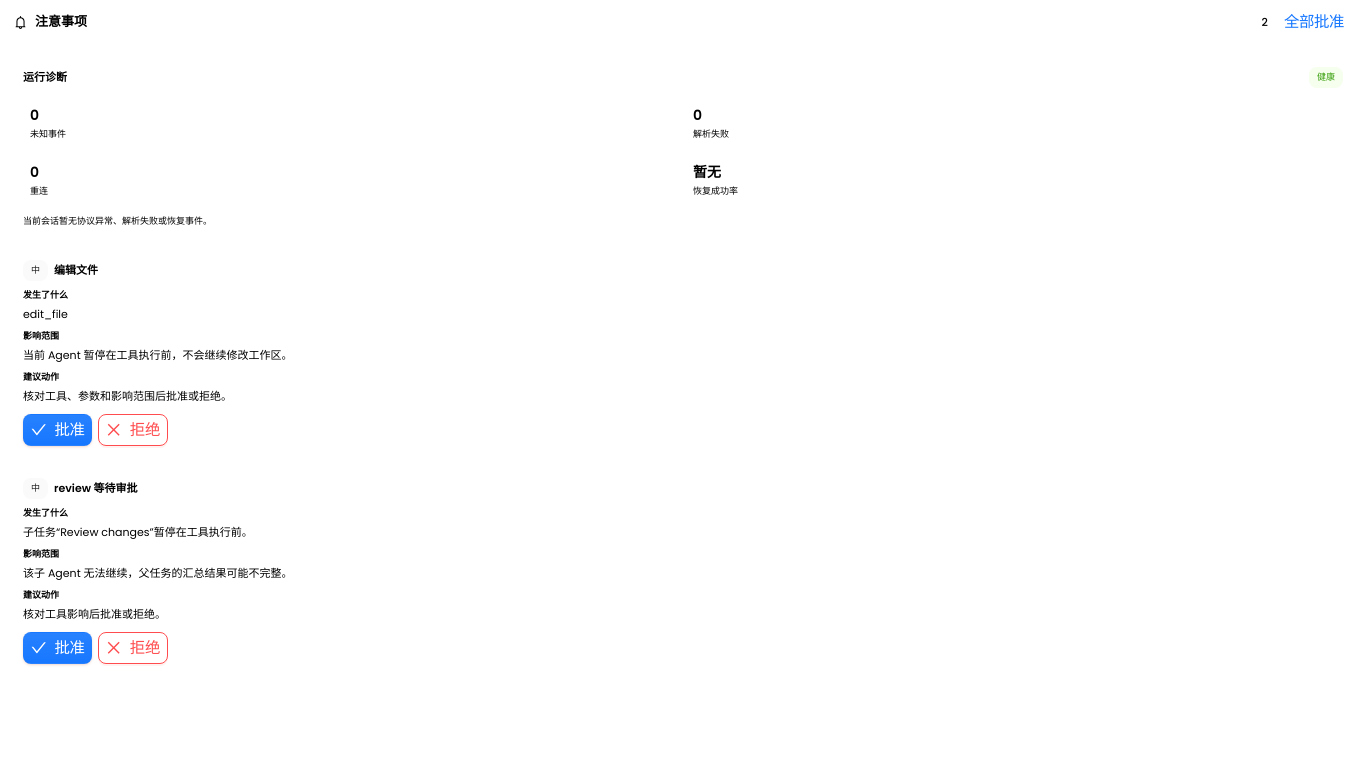
Test case: Agent product polish › approves multiple independent attention permissions in one confirmed action
The image size is (1366, 768).
Click the button "全部批准": click(1314, 22) [1276,6,1352,38]
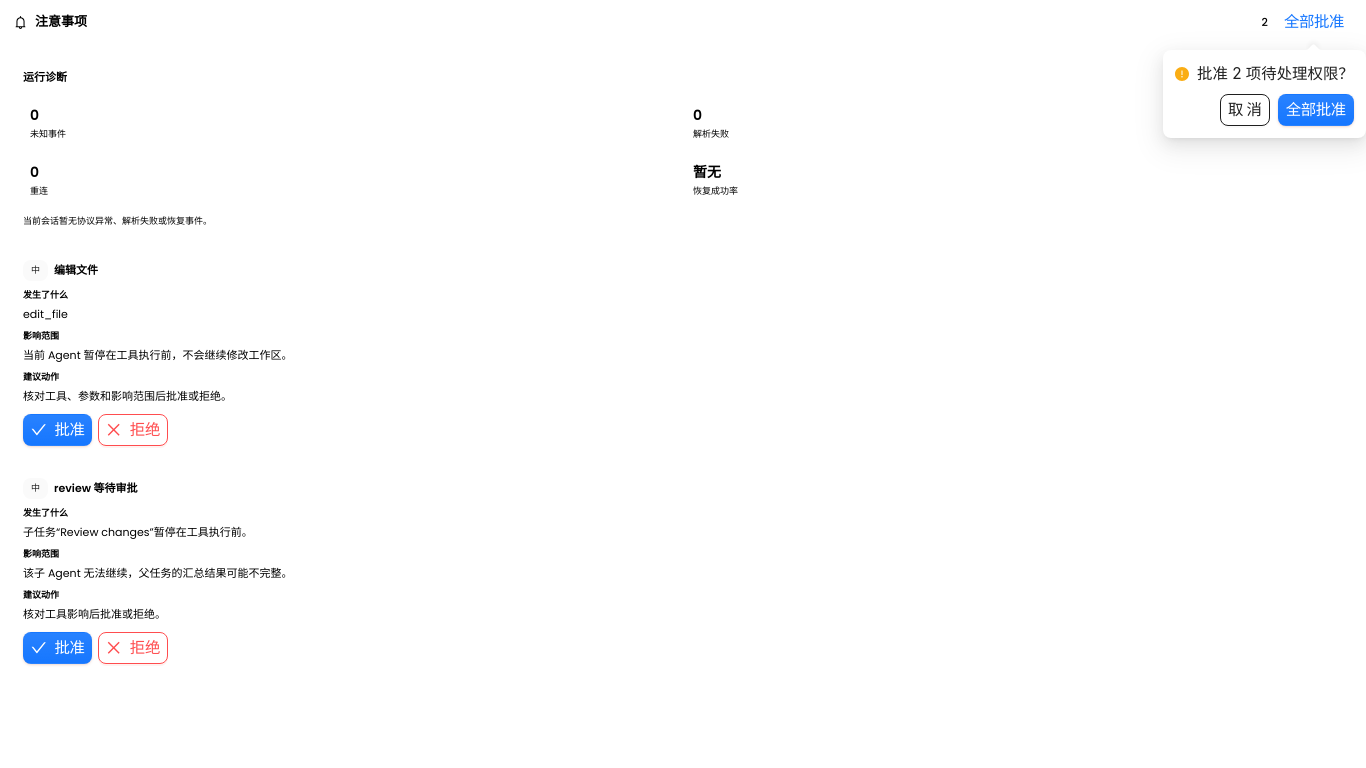
Click the button "全部批准" below "批准 2 项待处理权限？": click(1316, 110) [1278,94,1354,126]
(page scrolled)
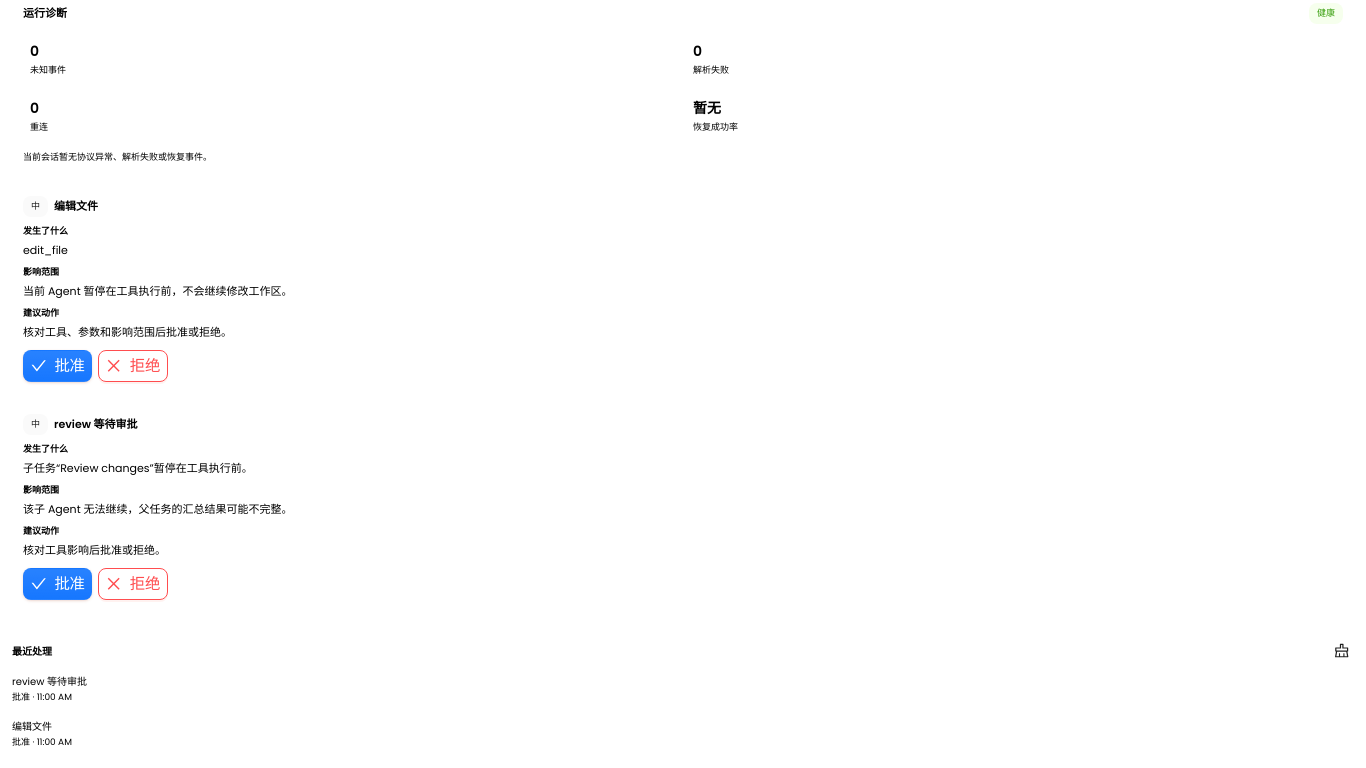
expect the element "最近处理" is shown: met, box [12,625,1354,756]
